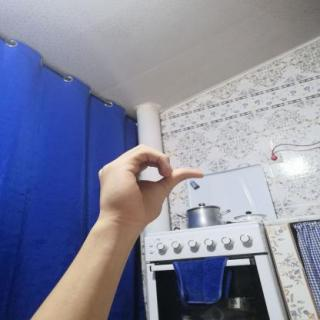WAW: (87, 136, 214, 234)
